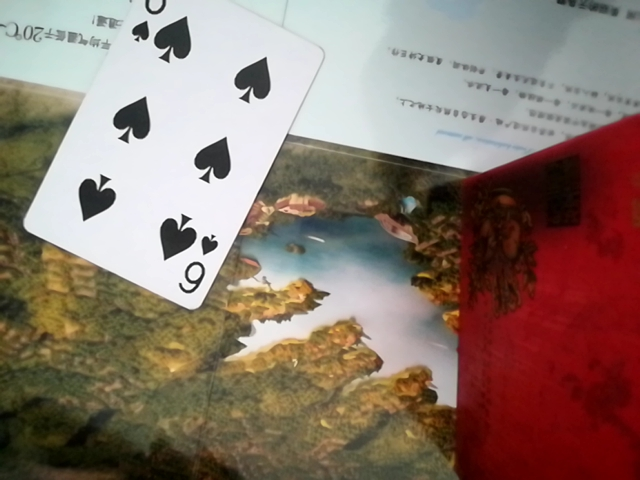ht 6: (19, 0, 314, 317)
